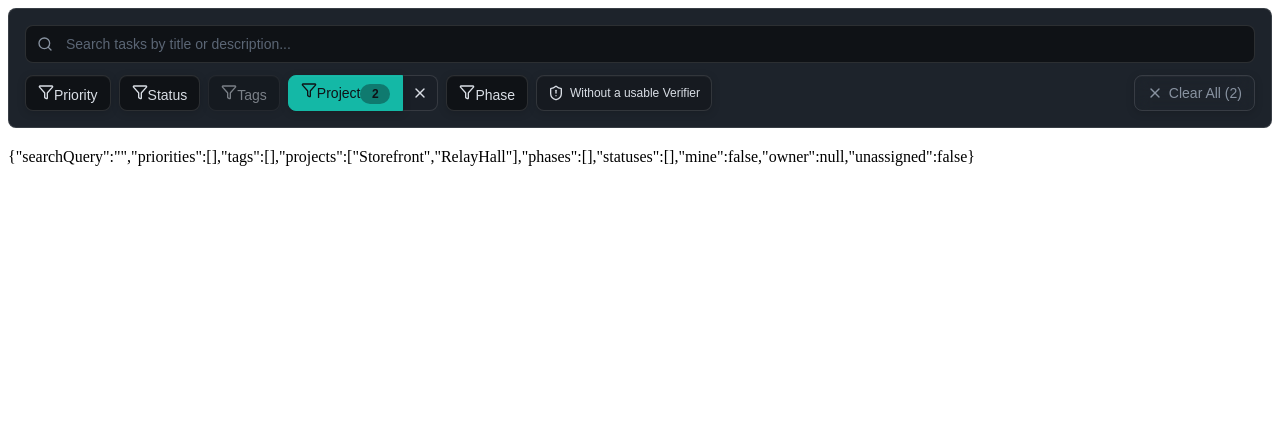
the Phase list follows the Project filter › two Projects list both, each under its own Project
Click the button "Phase".
click(487, 93)  # box top-left (446, 75), bottom-right (528, 111)
Wait 20 ms
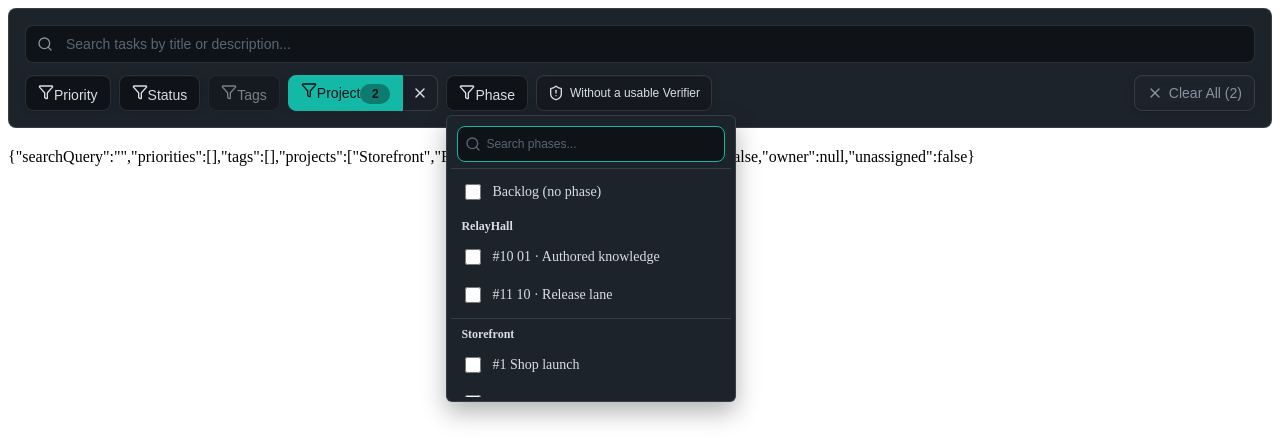
expect the number of checkboxes is 5: met
